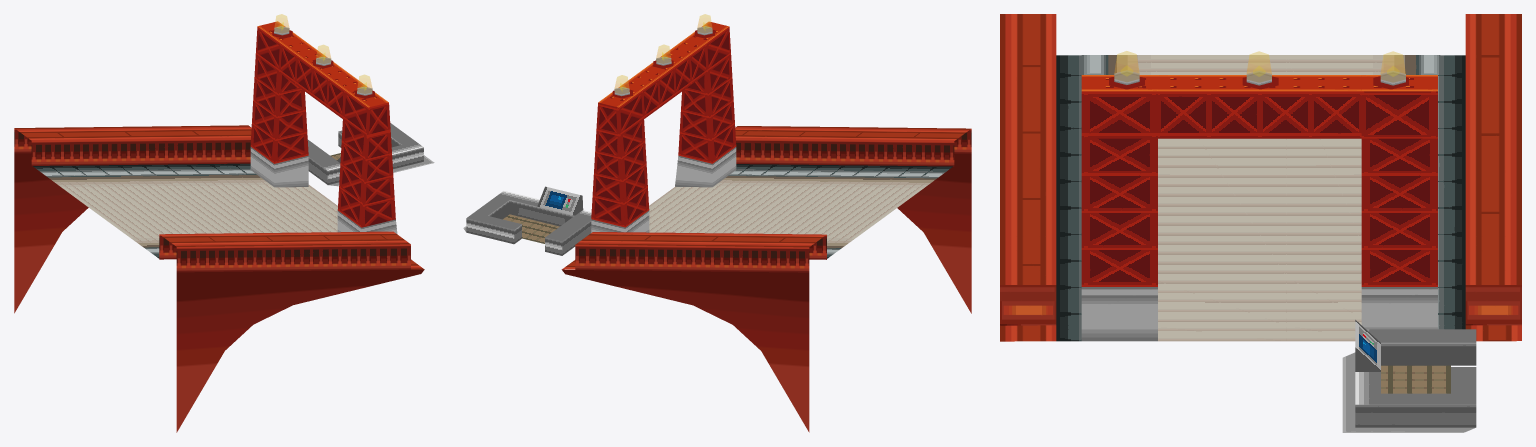
The picture shows the model from 3 angles, left to right: view 1: azimuth 30°, elevation 25°; view 2: azimuth 150°, elevation 25°; view 3: azimuth 270°, elevation 25°; orthographic projection. The views are drawn at different scales.
Parts seen in each view (by area): view 1: polygon0, polygon3, polygon7, polygon1, polygon4, polygon2; view 2: polygon0, polygon3, polygon7, polygon4, polygon1, polygon5, polygon2; view 3: polygon3, polygon7, polygon0, polygon1, polygon4, polygon5, polygon2, polygon6.
Part boxes in pixels (x1,y1,x2,y2): polygon0: (14,125,424,432); polygon3: (33,163,337,258); polygon7: (250,26,395,227); polygon1: (250,21,397,233); polygon4: (307,123,423,184); polygon2: (274,14,371,93); polygon0: (561,126,971,432); polygon3: (649,164,952,258); polygon7: (591,26,736,227); polygon4: (466,186,591,255); polygon1: (591,21,736,232); polygon5: (503,214,559,243); polygon2: (614,14,711,93); polygon3: (1056,55,1465,341); polygon7: (1081,91,1437,286); polygon0: (1000,14,1521,341); polygon1: (1081,70,1437,341); polygon4: (1355,320,1476,427); polygon5: (1381,365,1450,393); polygon2: (1114,51,1405,81); polygon6: (1342,352,1475,432).
Bounding box in the file's own units: 13.28 × 9.54 × 10.25.
